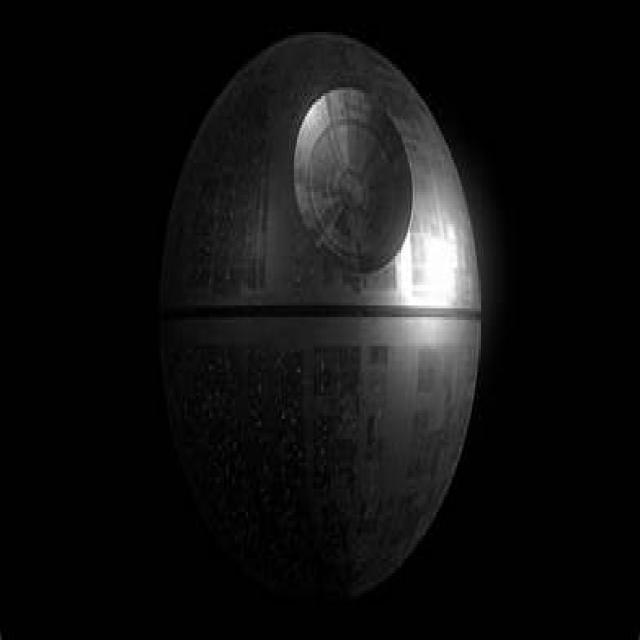deathStar: (158, 29, 484, 614)
